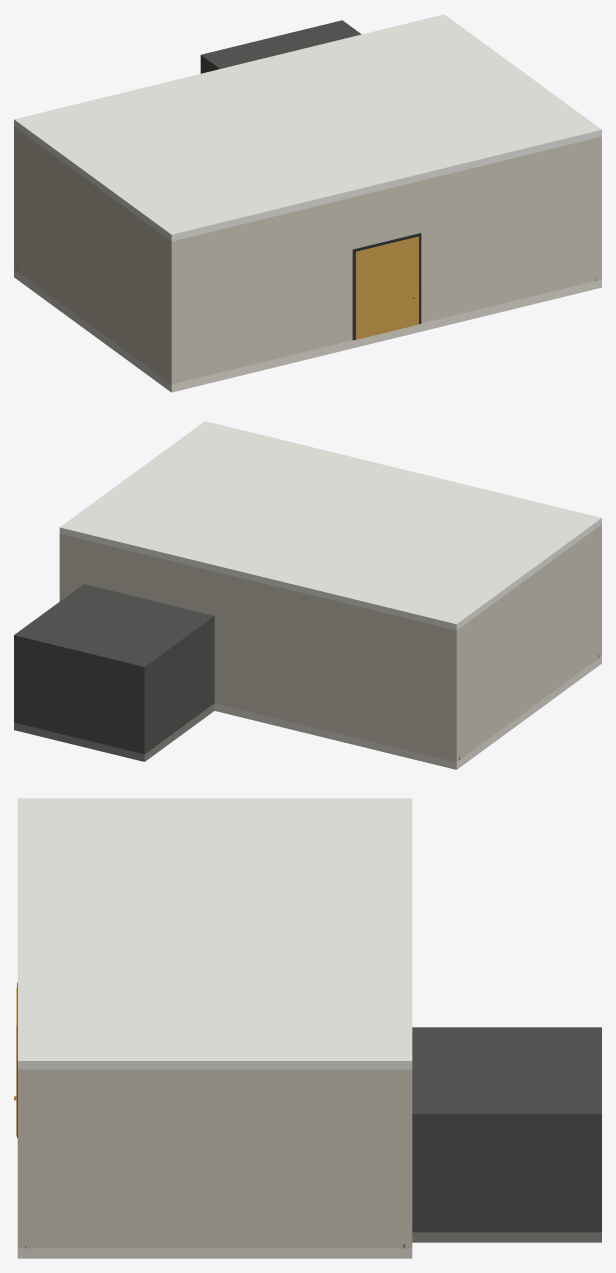
Rendered from bank.glb.
The picture shows the model from 3 angles, top to bottom: view 1: azimuth 30°, elevation 25°; view 2: azimuth 150°, elevation 25°; view 3: azimuth 270°, elevation 25°; orthographic projection. The views are drawn at different scales.
Parts seen in each view (by area): view 1: bank; view 2: bank; view 3: bank.
Part boxes in pixels (<box>): bank: <box>14,14,601,392</box>; bank: <box>14,421,601,769</box>; bank: <box>14,798,601,1258</box>.
Size of what is drawn, in the model's own units: 16.4 by 5.75 by 15.5.
